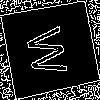W: (25, 23, 77, 79)
